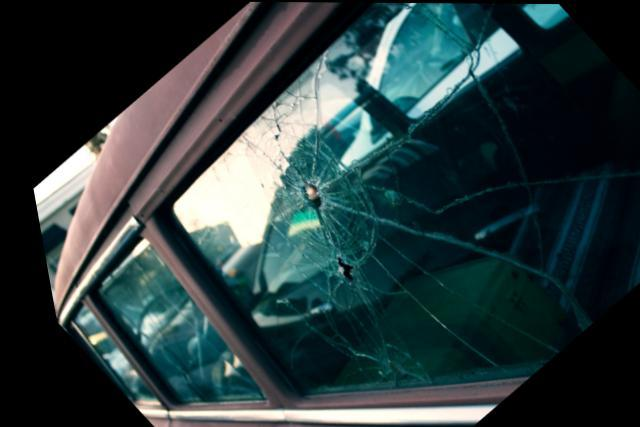glass shatter: (160, 2, 640, 395)
